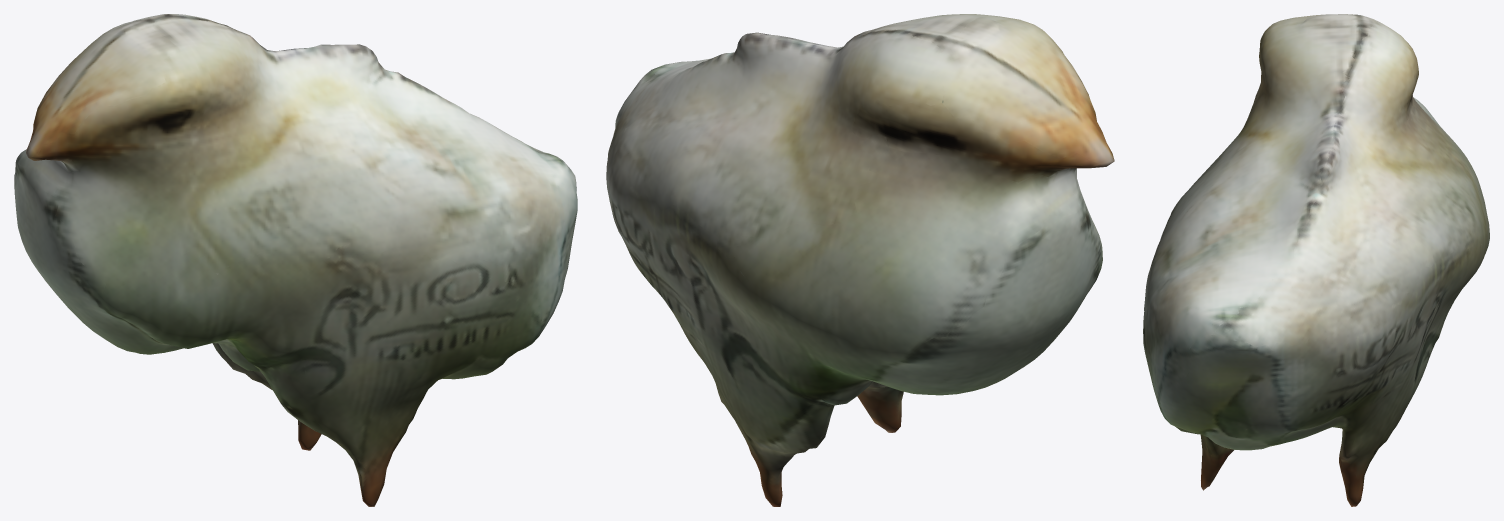
Rendered from bebe.glb.
The picture shows the model from 3 angles, left to right: view 1: azimuth 30°, elevation 25°; view 2: azimuth 150°, elevation 25°; view 3: azimuth 270°, elevation 25°; orthographic projection. The views are drawn at different scales.
Parts seen in each view (by area): view 1: mesh; view 2: mesh; view 3: mesh.
Part boxes in pixels (x1=…): mesh: x1=14, y1=14, x2=577, y2=506; mesh: x1=606, y1=14, x2=1114, y2=506; mesh: x1=1143, y1=14, x2=1489, y2=506.
Bounding box in the file's own units: 1.74 × 1.59 × 1.2.
1 material, 1 textured.
